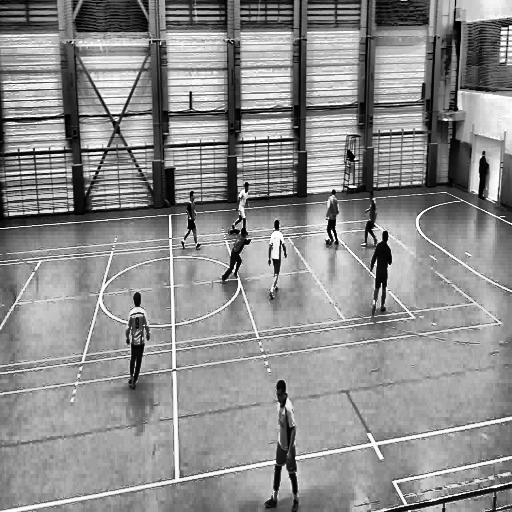ball: (324, 235, 331, 247)
player: (262, 374, 299, 512), (125, 292, 152, 392), (370, 230, 394, 318), (266, 219, 288, 303), (221, 228, 252, 286), (181, 191, 202, 251), (232, 179, 250, 235), (362, 190, 377, 250), (326, 188, 339, 247)
